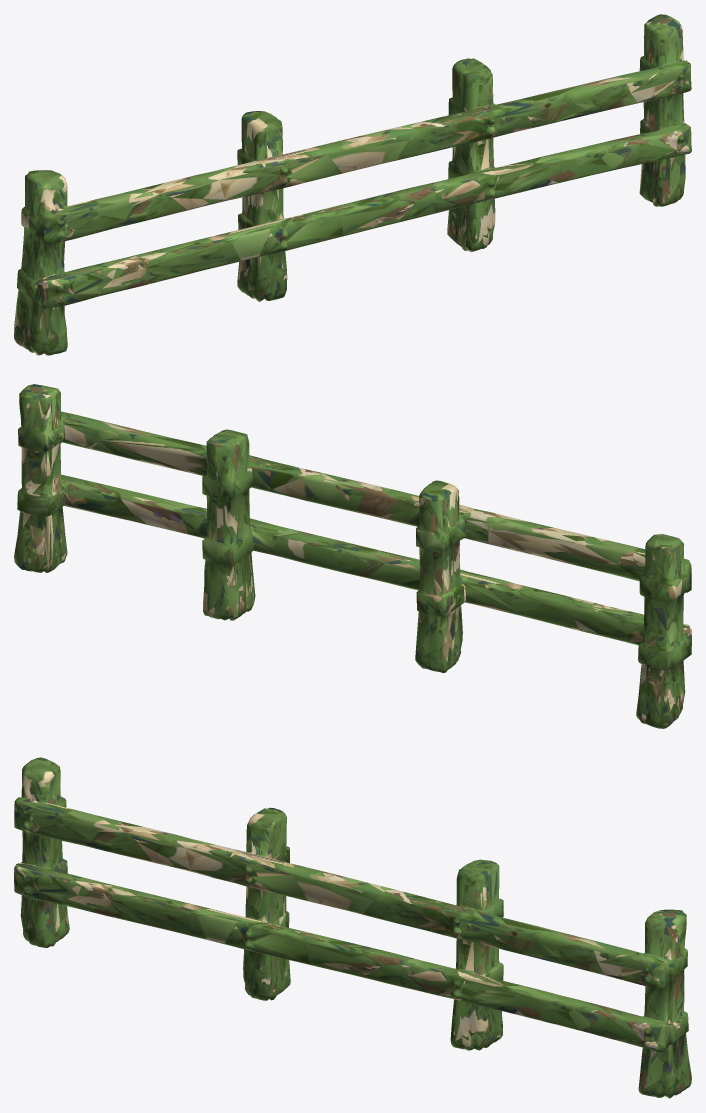
The model's file is Building_FenceEnd.fbx.
The picture shows the model from 3 angles, top to bottom: view 1: azimuth 30°, elevation 25°; view 2: azimuth 150°, elevation 25°; view 3: azimuth 330°, elevation 25°; orthographic projection.
Parts seen in each view (by area): view 1: Mesh_0; view 2: Mesh_0; view 3: Mesh_0.
Boxes of the visible parts, x1,y1,x2,y2 form: Mesh_0: (14,14,691,355); Mesh_0: (14,384,691,728); Mesh_0: (14,757,691,1098).
Size of the model in its own units: 189 by 48.64 by 17.1.
